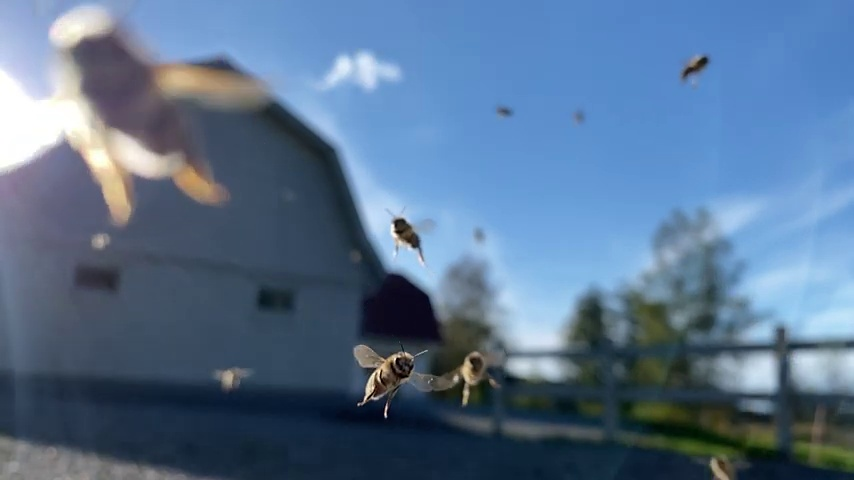insect: (45, 1, 258, 217), (352, 342, 422, 420), (420, 345, 500, 400), (384, 206, 433, 257), (674, 48, 708, 87)
